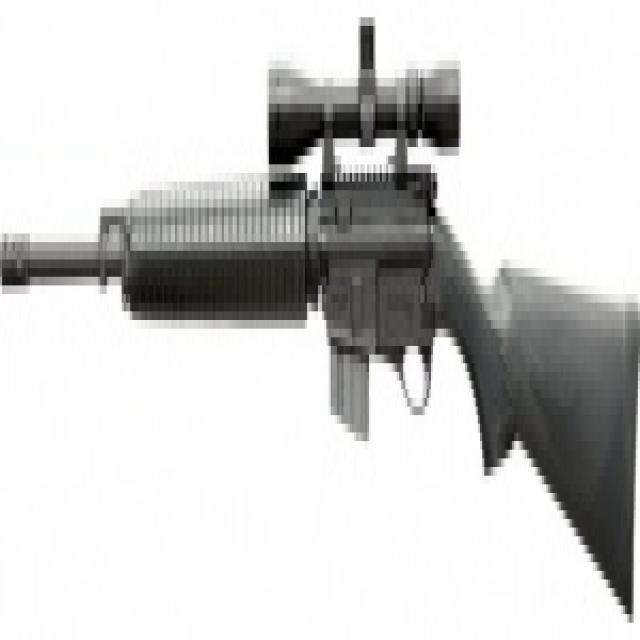weapon: (3, 14, 640, 633)
